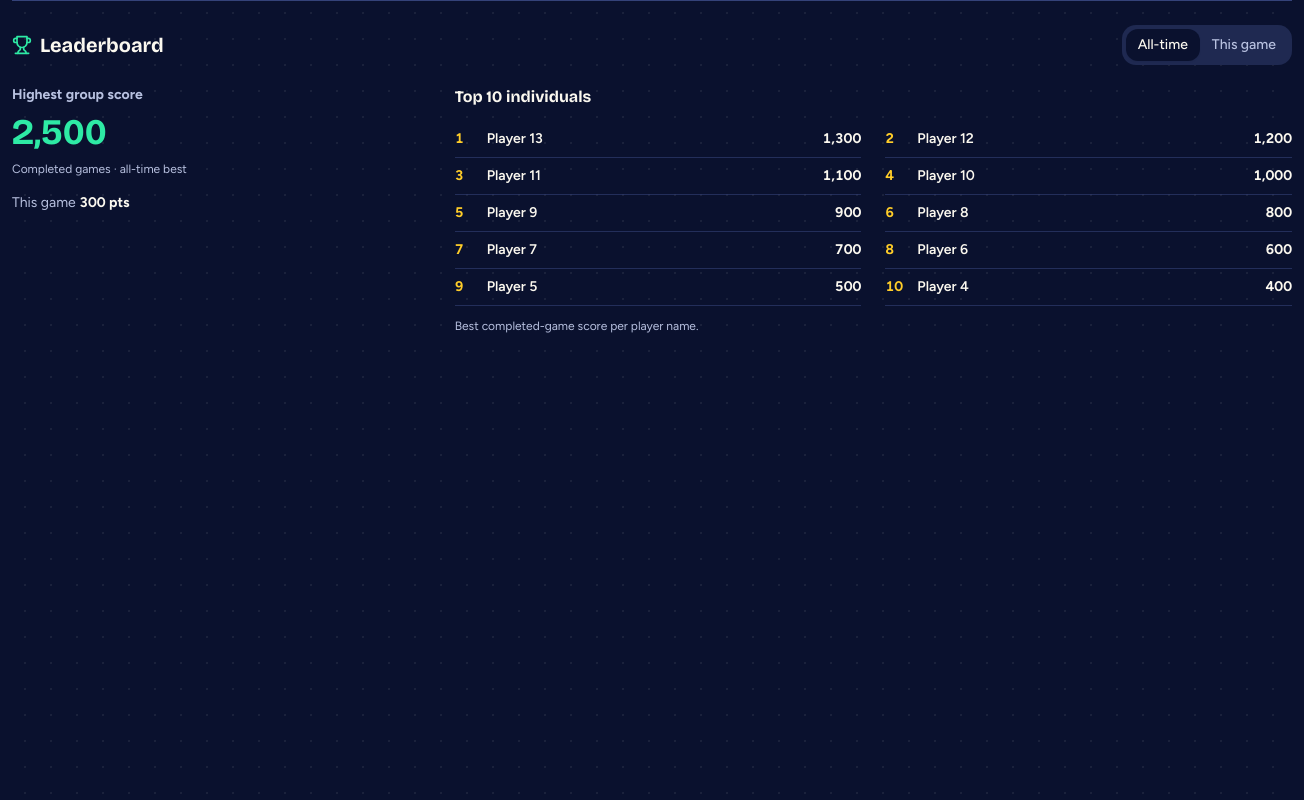
it: pencil records › reads completed team records and individual scores and switches to current standings
This screenshot has width=1304, height=800.
Expected: the text "2,500" is shown, left=12, top=111, right=107, bottom=154
Expected: the text "Player 13" is shown, left=487, top=130, right=543, bottom=147
Press the mouse on the tab "This game" at (1244, 45), box left=1200, top=29, right=1288, bottom=61
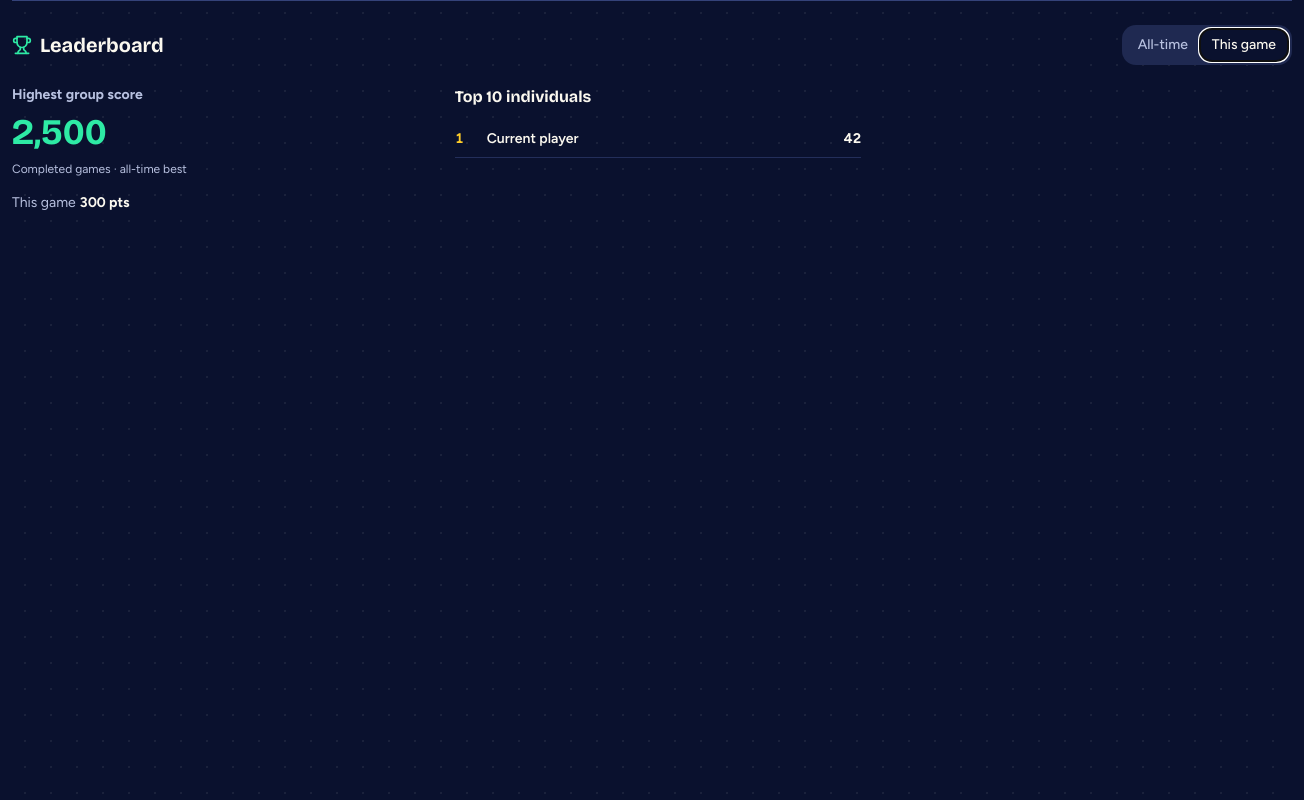
Expected: the text "Current player" is shown, left=487, top=130, right=579, bottom=147
Expected: the text "42" is shown, left=844, top=129, right=861, bottom=149
